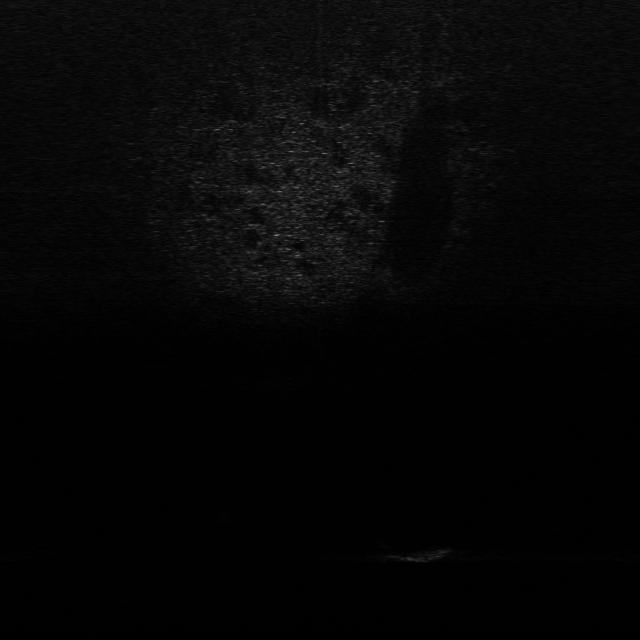metal bucket: (363, 530, 461, 564)
